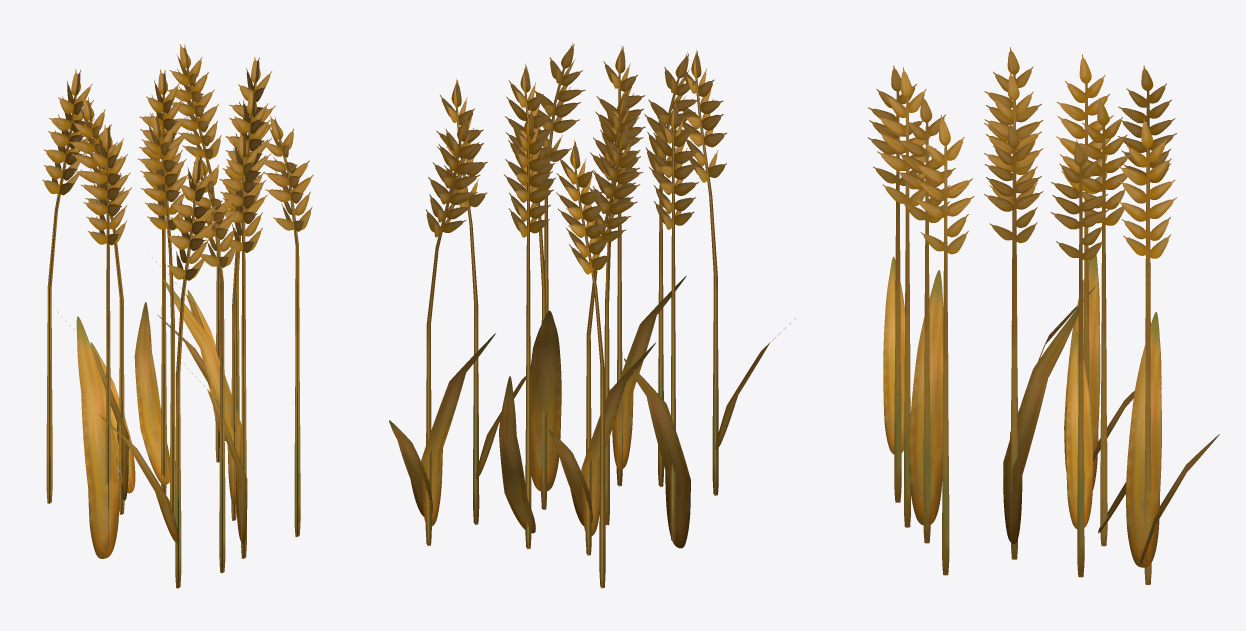
Rendered from wheat.glb.
The picture shows the model from 3 angles, left to right: view 1: azimuth 30°, elevation 25°; view 2: azimuth 150°, elevation 25°; view 3: azimuth 270°, elevation 25°; orthographic projection. The views are drawn at different scales.
Bounding box in the file's own units: 0.6589 × 1 × 0.6919.
Materials: 1 (1 with a texture image).
